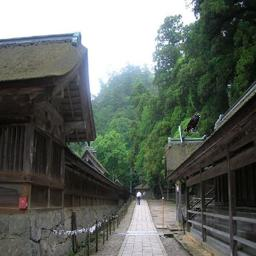Crow: (183, 113, 201, 134)
